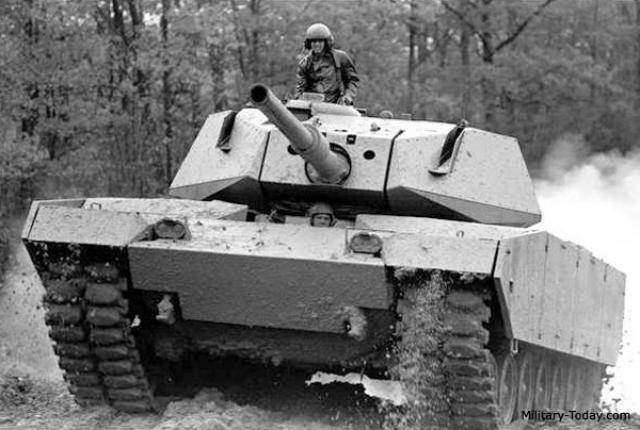other: (298, 24, 358, 98)
tank: (28, 92, 618, 412)
